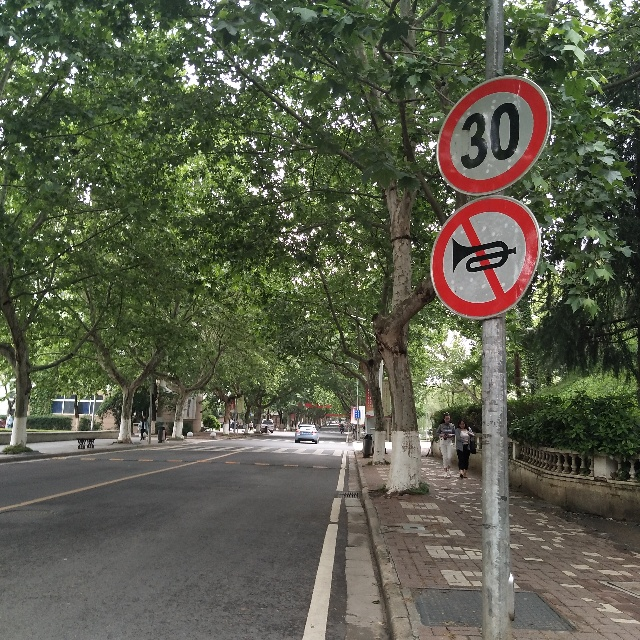nohonk: (434, 204, 533, 304)
